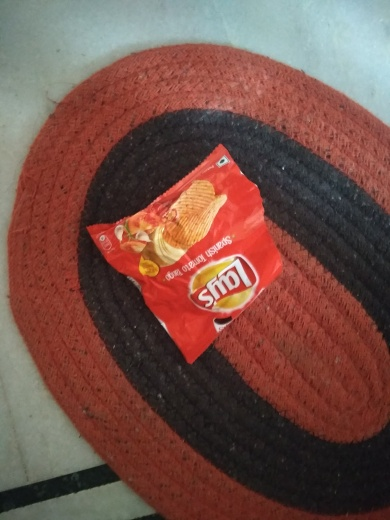lays: (78, 150, 294, 373)
